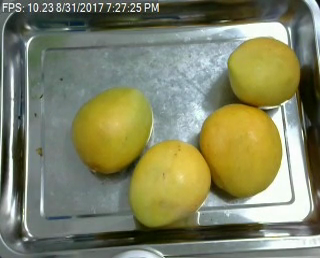Mango: (199, 104, 281, 196), (127, 140, 212, 227), (72, 85, 154, 172), (227, 36, 300, 109)
